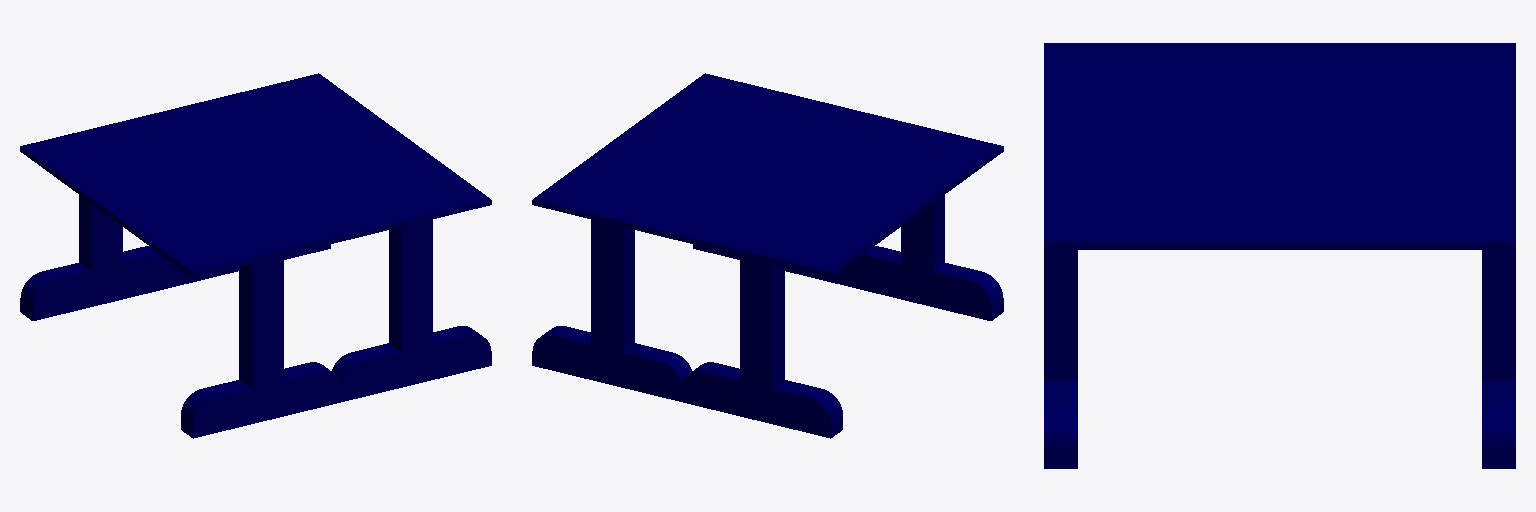
URDF robot description (table):
<?xml version="1.0" ?>
<!-- =================================================================================== -->
<!-- |    This document was autogenerated by xacro from table.urdf.xacro               | -->
<!-- |    EDITING THIS FILE BY HAND IS NOT RECOMMENDED                                 | -->
<!-- =================================================================================== -->
<robot name="table">
  <material name="Blue">
    <color rgba="0.0 0.0 0.4 1.0"/>
  </material>
  <link name="table_link">
    <inertial>
      <origin xyz="0 0 0"/>
      <mass value="25.5"/>
      <inertia ixx="0.02" ixy="0" ixz="0" iyy="0.05" iyz="0" izz="0.04"/>
    </inertial>
    <visual>
      <origin rpy="0 0 0" xyz="0.35 0 0"/>
      <geometry>
        <mesh filename="package://agimus_demo_10_tiago_pro_bar_manip/meshes/table.stl" scale="0.001 0.001 0.001"/>
      </geometry>
      <material name="Blue"/>
    </visual>
    <visual>
      <origin rpy="0 0 0" xyz="-0.35 0 0"/>
      <geometry>
        <mesh filename="package://agimus_demo_10_tiago_pro_bar_manip/meshes/table.stl" scale="0.001 0.001 0.001"/>
      </geometry>
      <material name="Blue"/>
    </visual>
    <collision>
      <origin rpy="0 0 0" xyz="0 0 -0.37"/>
      <geometry>
        <box size="1.4 1.4 0.74"/>
      </geometry>
    </collision>
  </link>
</robot>

--- Render facts (derived) ---
Views: 3 orthographic renders of the robot side by side, from view 1: azimuth 30°, elevation 25°; view 2: azimuth 150°, elevation 25°; view 3: azimuth 270°, elevation 25°.
Model table with 1 links and 0 joints (none), rooted at table_link, posed every joint at zero.
Links seen in each view (by area): view 1: table_link; view 2: table_link; view 3: table_link.
Boxes of the visible links, left/top/right/bottom form: table_link: left=20, top=73, right=491, bottom=438; table_link: left=532, top=73, right=1003, bottom=438; table_link: left=1044, top=43, right=1515, bottom=468.
Size in the robot's own frame: 1.4 by 1.4 by 0.745 metres.
2 mesh visuals loaded from 1 distinct referenced files (1 binary STL).
